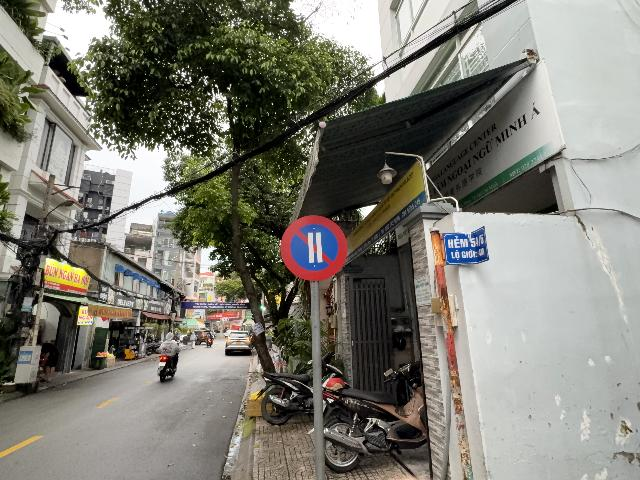cam-do-xe-ngay-chan: (281, 215, 348, 281)
